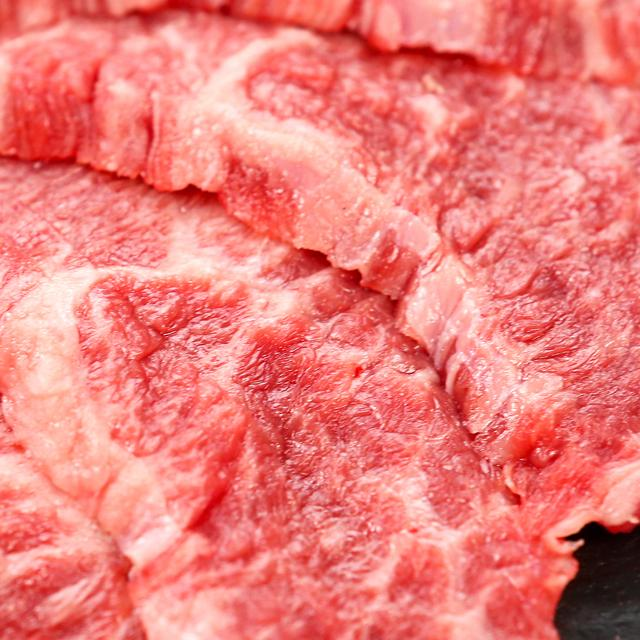beef: (55, 35, 525, 543)
